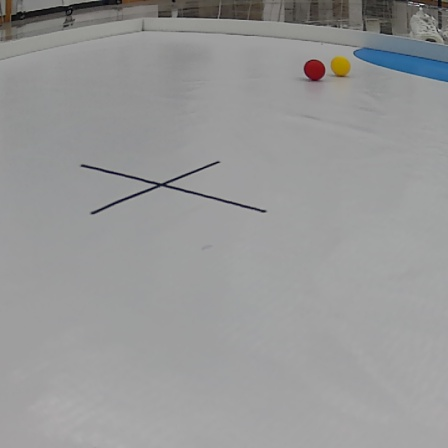blue_base: (352, 46, 448, 88)
red: (304, 59, 326, 83)
yellow: (332, 56, 351, 77)
